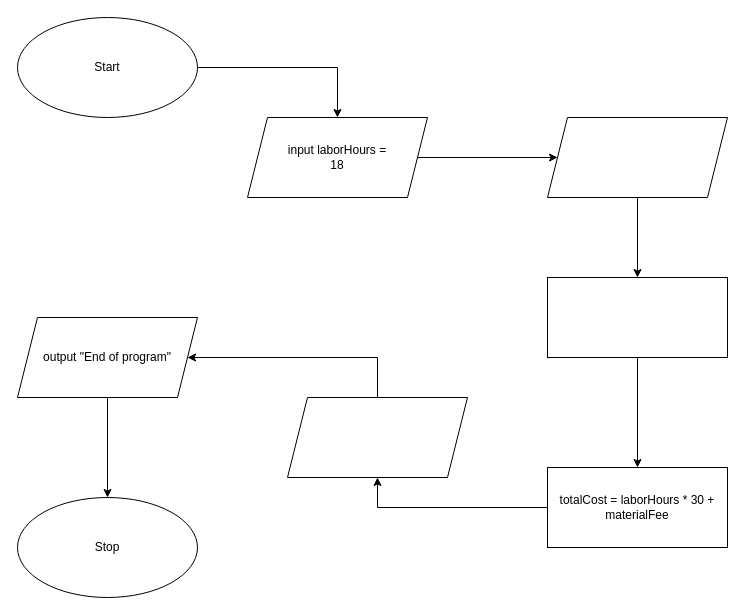
The diagram is 745 pixels wide and 615 high, and some of its shapes have lost their labels. The centre of each missing label's shape, as x and y in pixels:
input materialCost = 1700: point 637,157
materialFee = 1700 * 1.2: point 637,317
output totalCost: point 377,437
